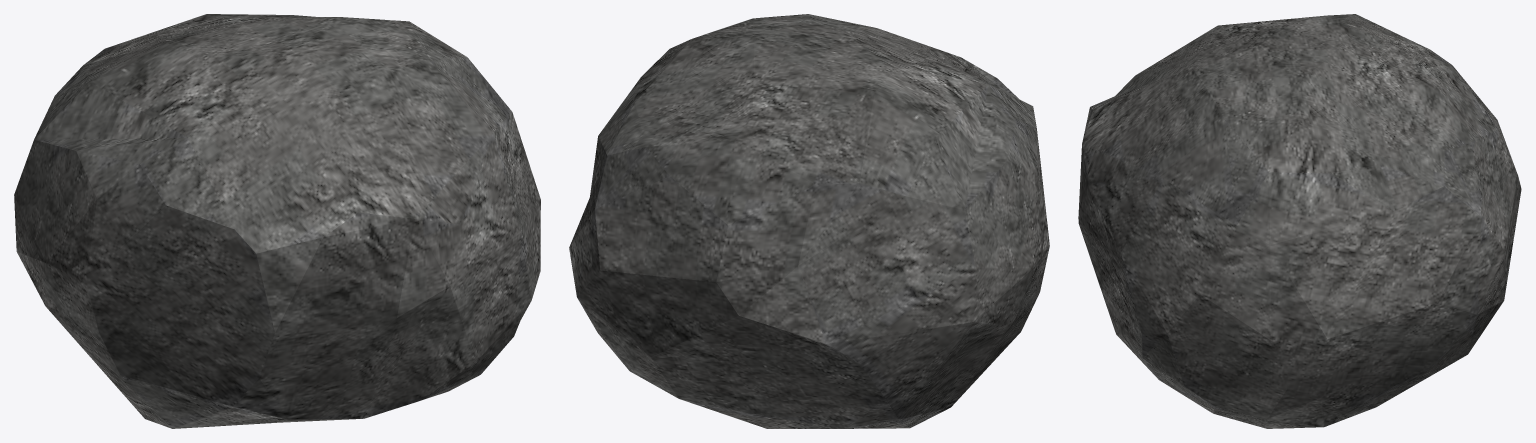
File: StrangeRock1_LOD0.FBX
The picture shows the model from 3 angles, left to right: view 1: azimuth 30°, elevation 25°; view 2: azimuth 150°, elevation 25°; view 3: azimuth 270°, elevation 25°; orthographic projection. The views are drawn at different scales.
Parts seen in each view (by area): view 1: Rock_High001; view 2: Rock_High001; view 3: Rock_High001.
Part boxes in pixels (x1,y1,x2,y2): Rock_High001: [14, 14, 540, 428]; Rock_High001: [569, 14, 1049, 428]; Rock_High001: [1078, 14, 1521, 428].
Bounding box in the file's own units: 78.59 × 61.98 × 74.68.
Materials: 1 (1 with a texture image).
